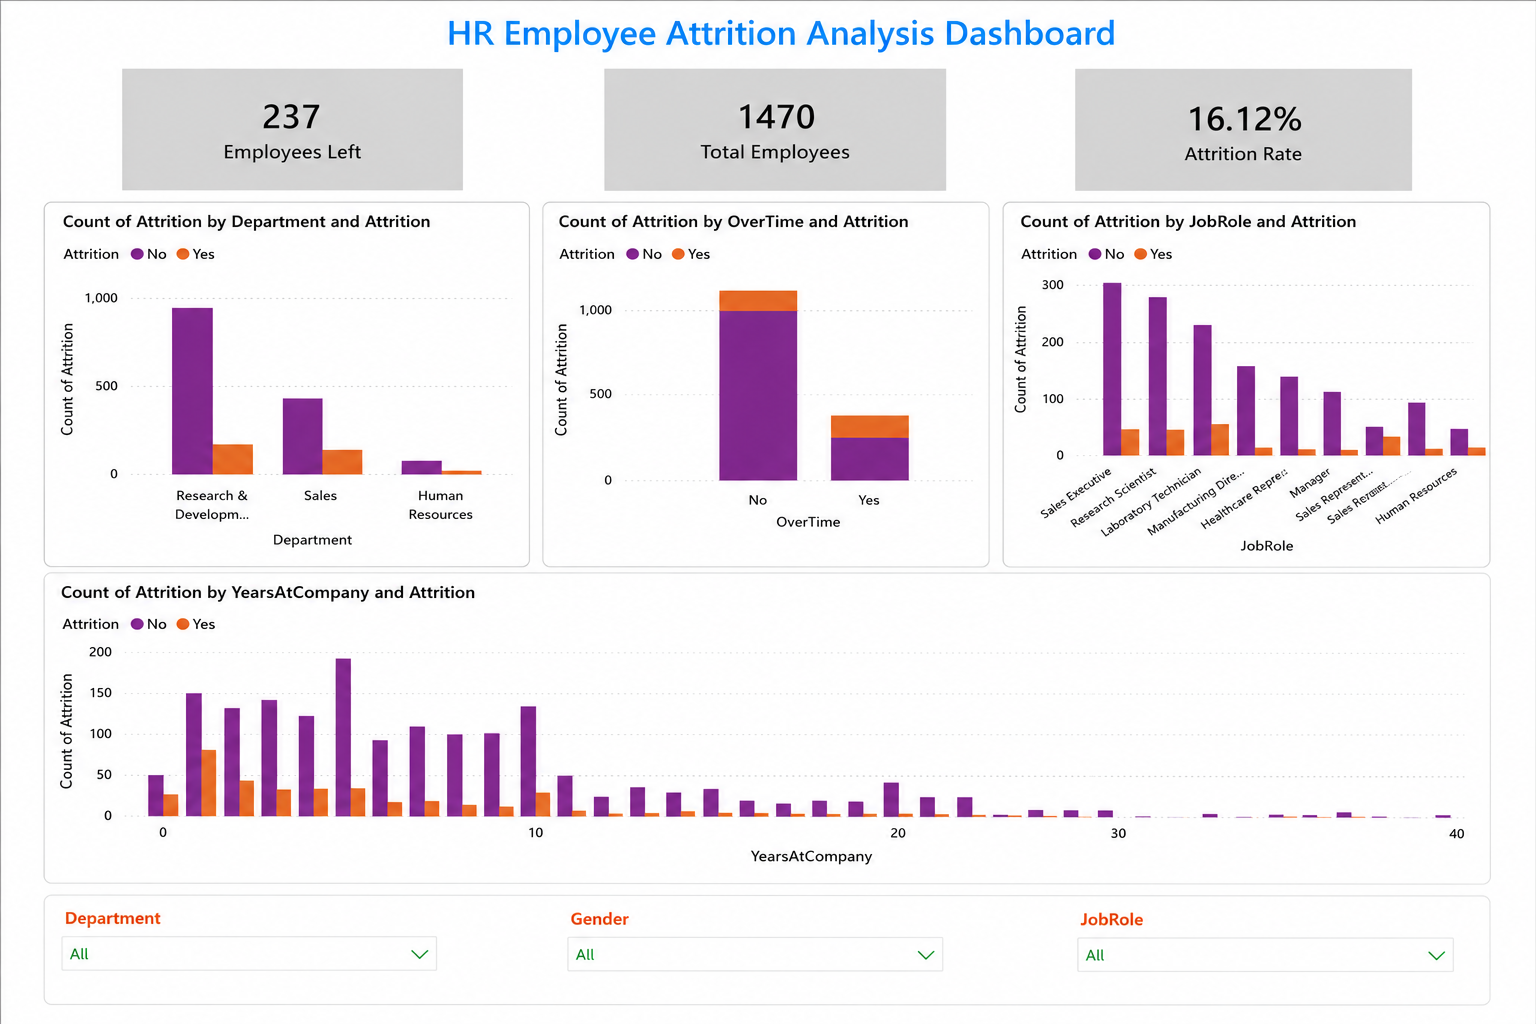

The page's visual inventory and layout, read from the dashboard file:
{"tool":"powerbi","page":{"name":"Page 1","canvas":[1500,1300],"ordinal":0},"visuals":[{"type":"card","fields":{"Values":["CountNonNull(Attrition_Project.Age)"]},"box":[493.8,11.2,280,233.8],"z":0},{"type":"card","fields":{"Values":["CountNonNull(Attrition_Project.Attrition)"]},"box":[72.5,36.2,282.5,187.5],"z":1000},{"type":"card","fields":{"Values":["df.Attrition Rate"]},"box":[913.8,72.5,280,172.5],"z":2000},{"type":"clusteredColumnChart","fields":{"Category":["df.Department"],"Series":["df.Attrition"],"Y":["CountNonNull(df.Attrition)"]},"box":[53.8,262.5,342.5,356.2],"z":3000},{"type":"columnChart","fields":{"Category":["df.OverTime"],"Y":["CountNonNull(df.Attrition)"],"Series":["df.Attrition"]},"box":[452.5,271.2,362.5,361.2],"z":4000},{"type":"clusteredColumnChart","fields":{"Category":["df.JobRole"],"Y":["CountNonNull(df.Attrition)"],"Series":["df.Attrition"]},"box":[865,271.2,406.2,356.2],"z":5000},{"type":"textbox","box":[72.5,0,981.2,72.5],"z":6000},{"type":"clusteredColumnChart","fields":{"Category":["df.YearsAtCompany"],"Y":["CountNonNull(df.Attrition)"],"Series":["df.Attrition"]},"box":[72.5,661.2,1198.8,386.2],"z":7000},{"type":"slicer","fields":{"Values":["df.Department"]},"box":[53.8,1077.5,381.2,222.5],"z":8000},{"type":"slicer","fields":{"Values":["df.Gender"]},"box":[481.2,1093.8,381.2,188.8],"z":9000},{"type":"slicer","fields":{"Values":["df.JobRole"]},"box":[890,1111.2,381.2,188.8],"z":10000}]}

Visuals, with their boxes on the page's 1500x1300 design canvas (x1, y1, x2, y2). These are canvas units, not pixel positions in the 1536x1024 screenshot, which may show the page scaled, cropped or inside an application window:
card - CountNonNull(Attrition_Project.Age): rect(494, 11, 774, 245)
card - CountNonNull(Attrition_Project.Attrition): rect(72, 36, 355, 224)
card - df.Attrition Rate: rect(914, 72, 1194, 245)
clusteredColumnChart - df.Department x df.Attrition: rect(54, 262, 396, 619)
columnChart - df.OverTime x CountNonNull(df.Attrition): rect(452, 271, 815, 632)
clusteredColumnChart - df.JobRole x CountNonNull(df.Attrition): rect(865, 271, 1271, 627)
textbox: rect(72, 0, 1054, 72)
clusteredColumnChart - df.YearsAtCompany x CountNonNull(df.Attrition): rect(72, 661, 1271, 1047)
slicer - df.Department: rect(54, 1078, 435, 1300)
slicer - df.Gender: rect(481, 1094, 862, 1283)
slicer - df.JobRole: rect(890, 1111, 1271, 1300)
